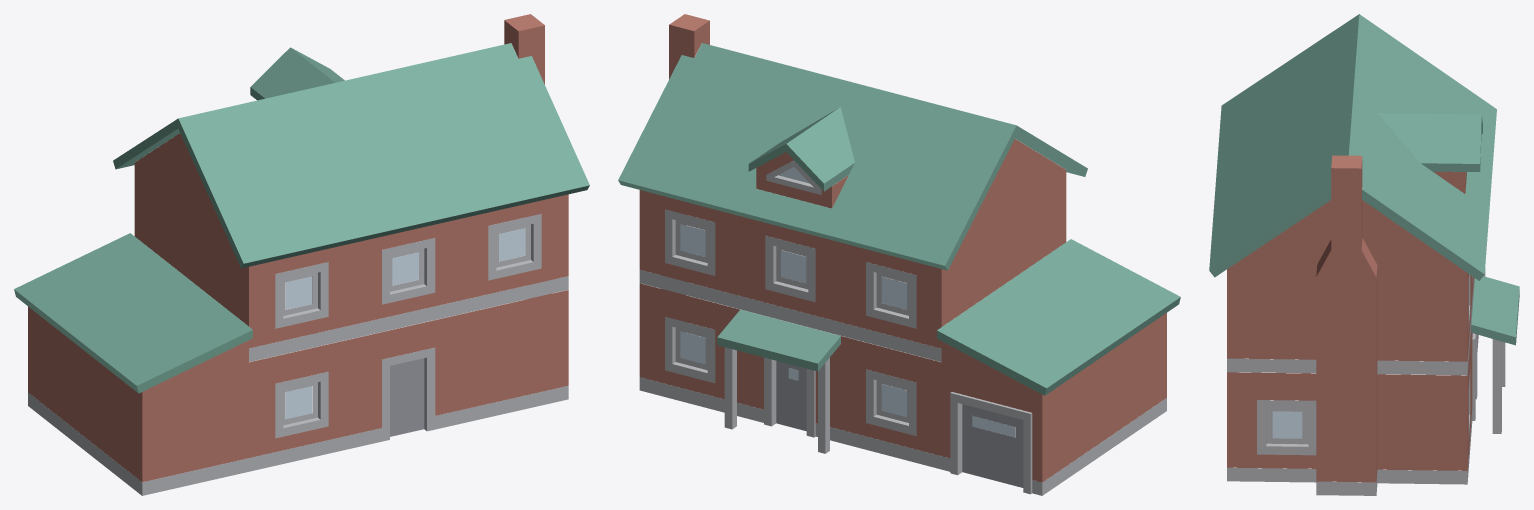
File: house.gltf
The picture shows the model from 3 angles, left to right: view 1: azimuth 30°, elevation 25°; view 2: azimuth 150°, elevation 25°; view 3: azimuth 270°, elevation 25°; orthographic projection. The views are drawn at different scales.
Parts seen in each view (by area): view 1: house; view 2: house; view 3: house.
Boxes of the visible parts, x1=… form: house: x1=14, y1=14, x2=589, y2=495; house: x1=618, y1=14, x2=1180, y2=495; house: x1=1209, y1=14, x2=1519, y2=495.
Bounding box in the file's own units: 10.7 × 7.33 × 6.3.
